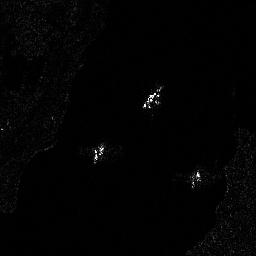ship: (139, 83, 163, 108)
